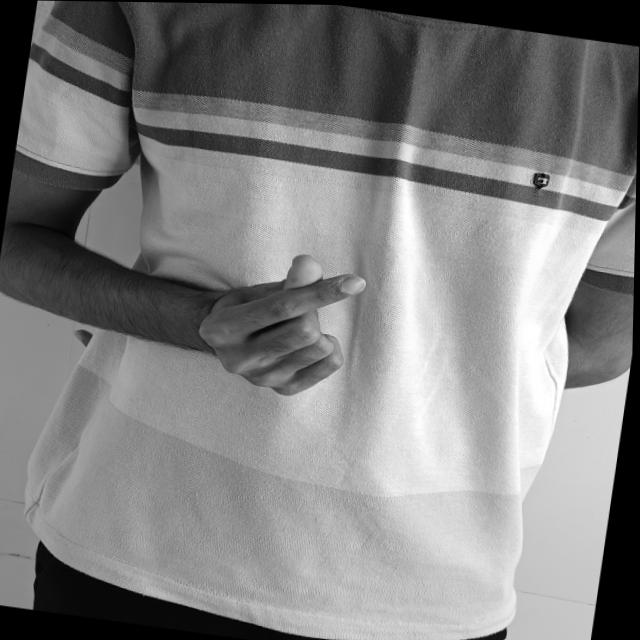Grattitude: (175, 227, 404, 419)
